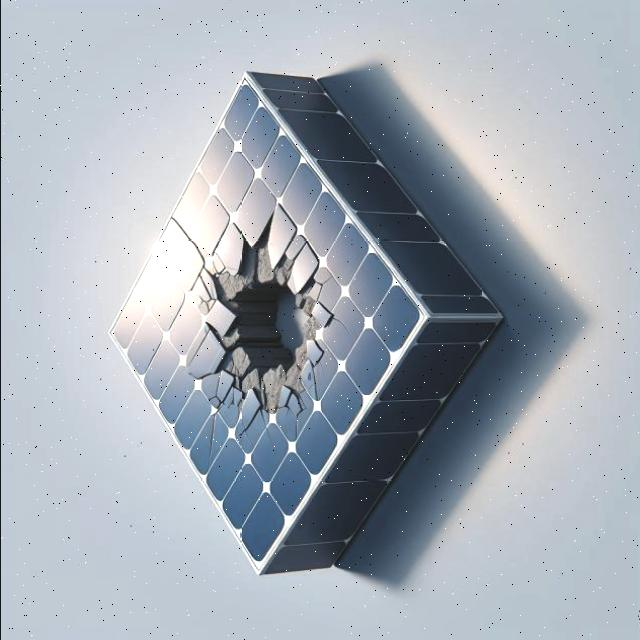Anomaly Solar Panel: (22, 78, 479, 571)
Structural Damage: (181, 200, 336, 429), (204, 411, 214, 470)
